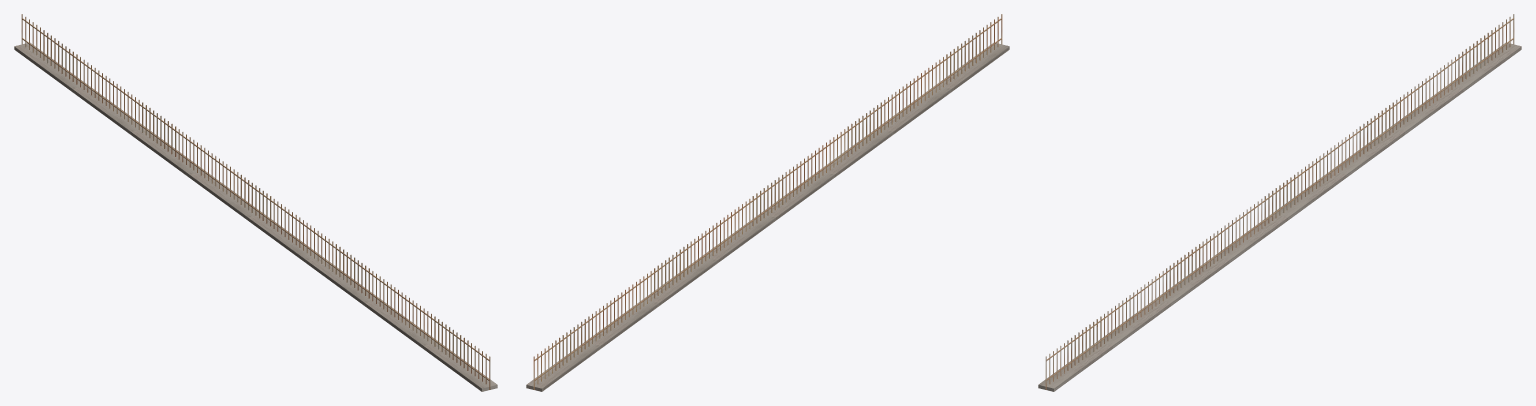
The model's file is ringhiera.obj.
3 views of the same model, side by side, from view 1: azimuth 30°, elevation 25°; view 2: azimuth 150°, elevation 25°; view 3: azimuth 330°, elevation 25° (orthographic).
Visible parts, largest first — view 1: Cube.144, Cube; view 2: Cube.144, Cube; view 3: Cube.144, Cube.
Boxes of the visible parts, x1,y1,x2,y2 form: Cube.144: (21,14,490,389); Cube: (14,42,497,391); Cube.144: (533,14,1002,389); Cube: (526,42,1009,391); Cube.144: (1045,14,1514,389); Cube: (1038,42,1521,391).
Size of the model in its own units: 5 by 10.1 by 256.
2 materials, 2 textured.
